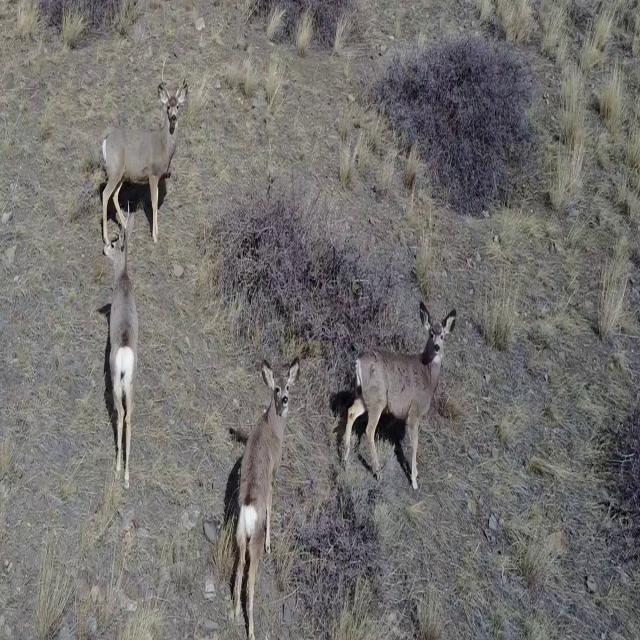Deer: (339, 300, 459, 492), (228, 354, 300, 610), (89, 68, 191, 242), (96, 212, 138, 489)
